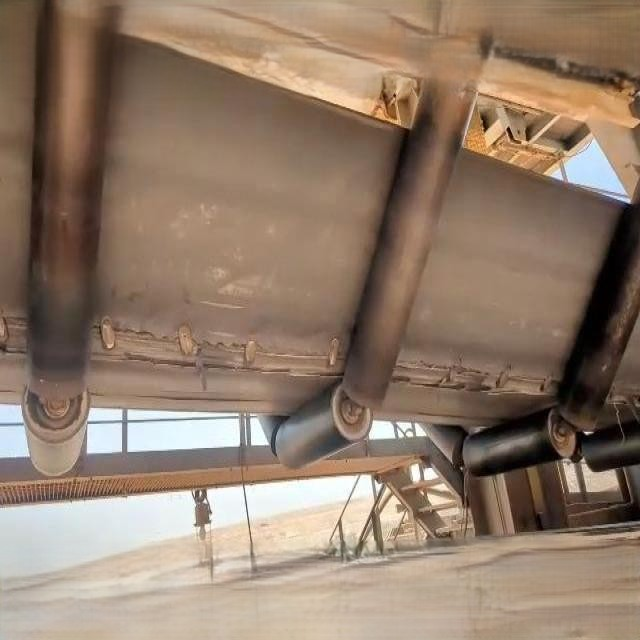Tear: (91, 306, 346, 394), (387, 348, 567, 408), (0, 301, 35, 364)
